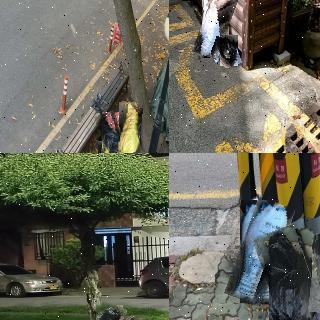Garbage: (232, 198, 287, 305), (260, 225, 320, 320), (197, 0, 232, 59), (117, 101, 141, 153), (98, 111, 126, 153), (309, 233, 320, 313), (218, 34, 240, 67), (94, 303, 124, 320), (95, 140, 117, 153)
